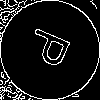P: (25, 25, 80, 74)
